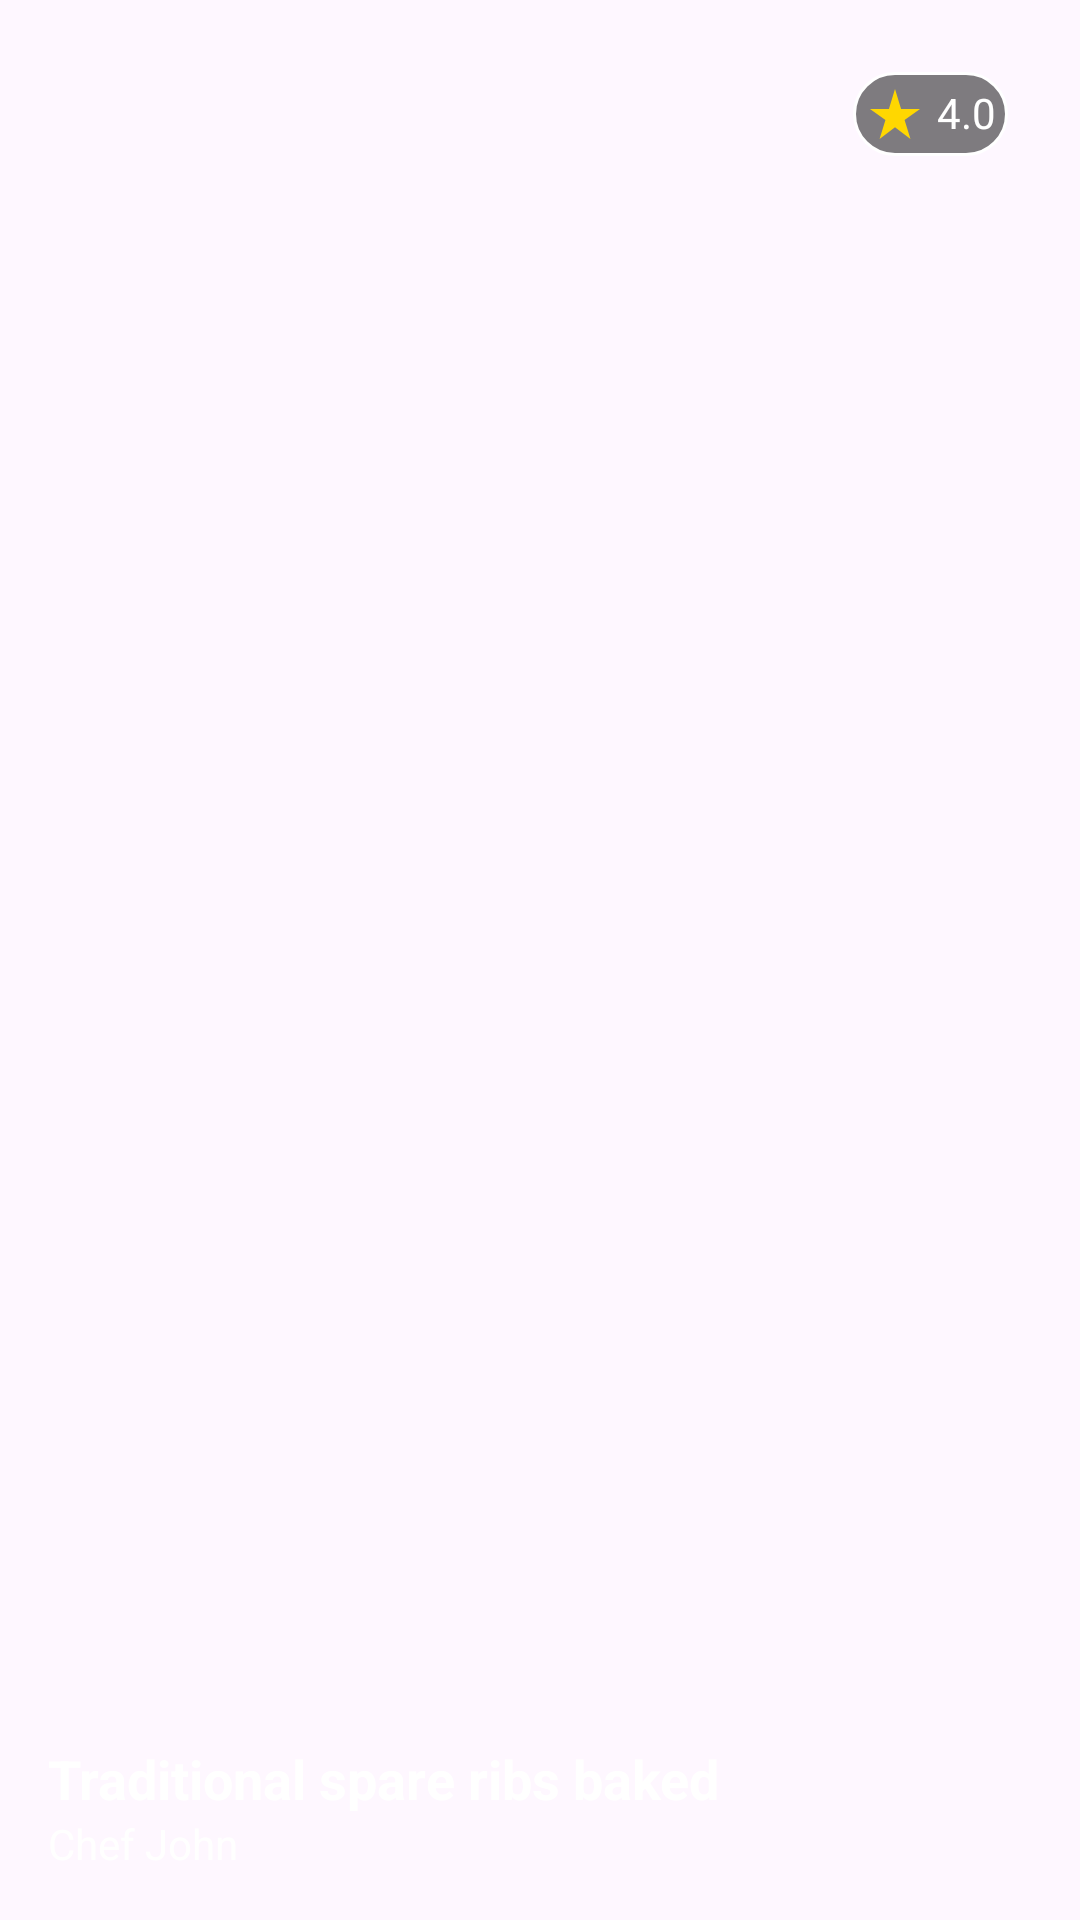

Named icons in this screenshot (1080px×1920px) and their centers, point (x, y):
rating star: point (895, 114)
